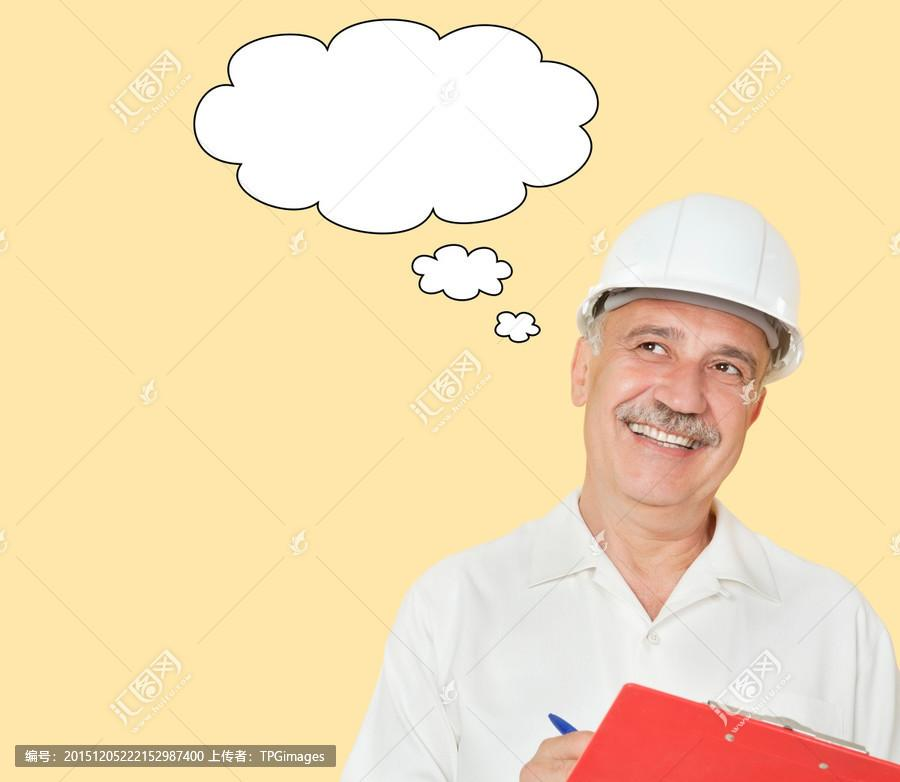helmet: (571, 193, 821, 328)
